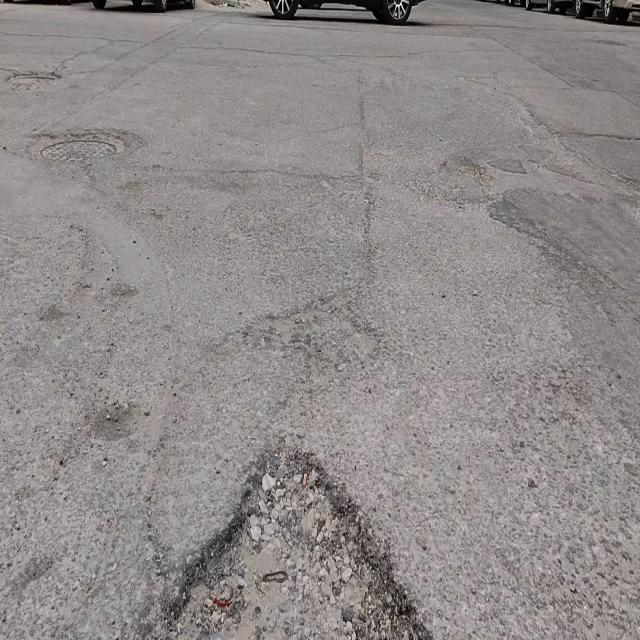Potholes: (164, 443, 428, 639)
